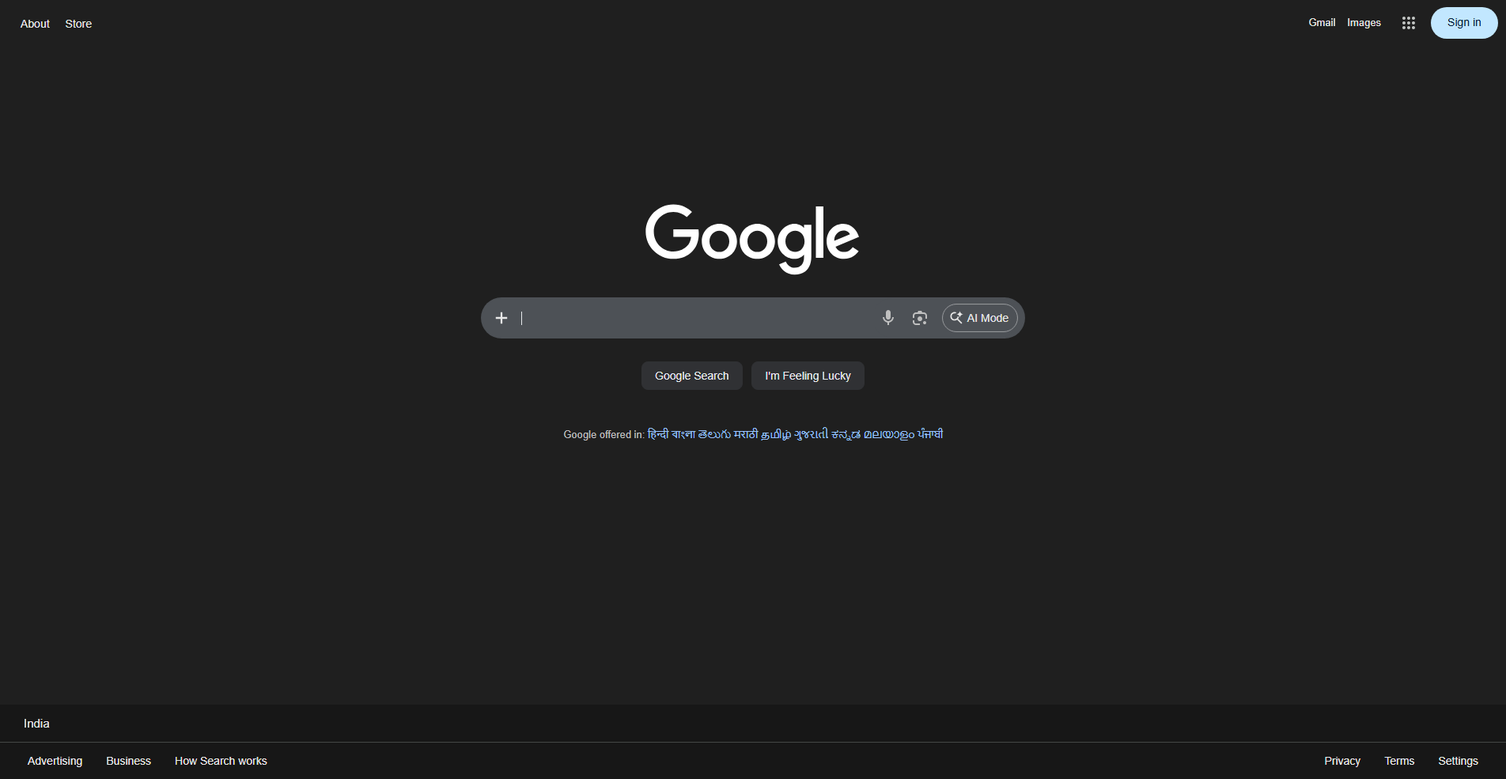button: (1426, 743, 1490, 779), (942, 304, 1018, 332), (1393, 7, 1425, 38), (487, 304, 516, 332), (872, 308, 904, 327), (904, 308, 936, 327)
input: (752, 361, 864, 390), (642, 361, 742, 390)
link: (163, 743, 279, 779), (16, 743, 94, 779), (94, 743, 163, 779), (1313, 743, 1373, 779), (1431, 7, 1498, 38), (1373, 743, 1426, 779), (17, 13, 53, 34), (61, 13, 96, 34), (1347, 13, 1381, 32), (864, 429, 915, 441), (1309, 13, 1335, 32), (794, 429, 828, 441), (698, 429, 731, 441), (761, 429, 792, 441), (831, 429, 861, 441), (918, 429, 943, 441), (734, 429, 758, 441), (672, 429, 695, 441), (648, 429, 669, 441)
textarea: (521, 298, 872, 338)
